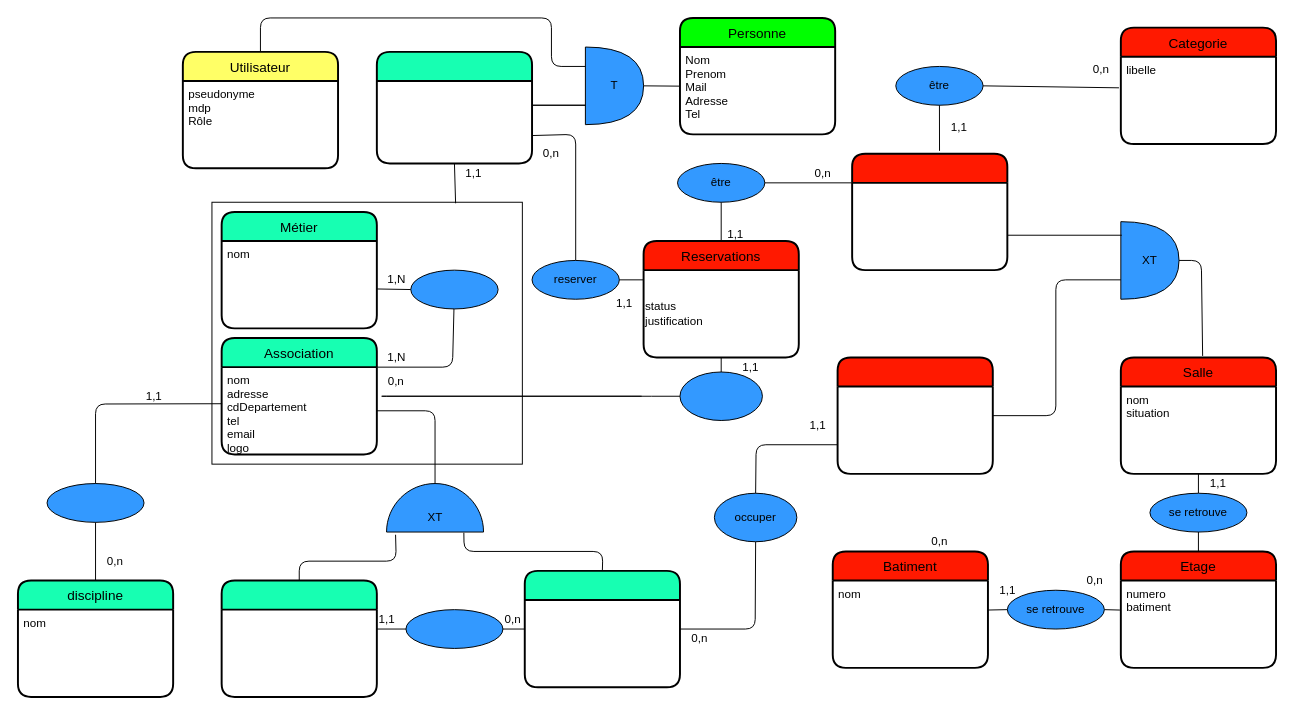
Some shapes in this 1293 by 714 pixel diagram are drawn without their labels. The centre of each missing label's shape, as x and y in pixels:
"avoir" goes at (x=95, y=502).
"Bureau" goes at (x=914, y=415).
"Comité" goes at (x=298, y=638).
"faire des" goes at (x=720, y=395).
"Ligue" goes at (x=601, y=628).
"Membre" goes at (x=454, y=107).
"SalleReserv" goes at (x=929, y=211).
"Travail pour" goes at (x=454, y=628).
"Travailler" goes at (x=454, y=289).
